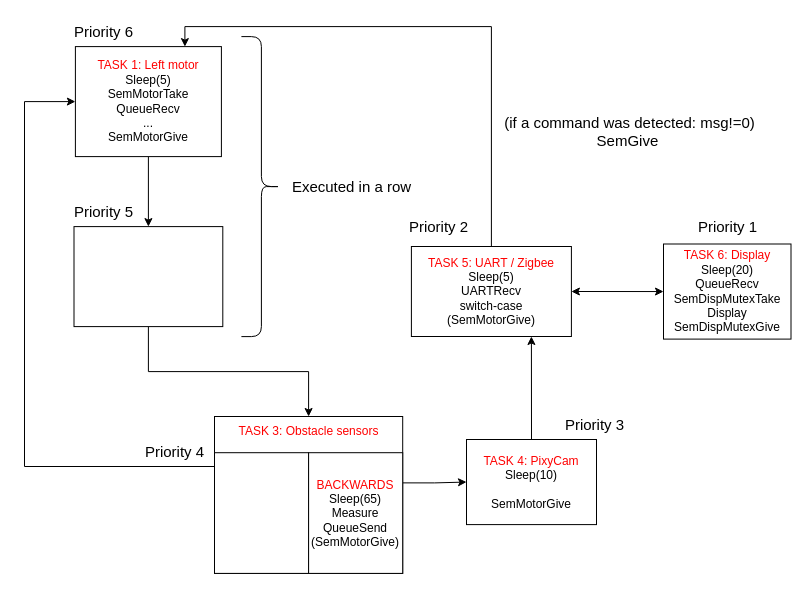
This 809x592 diagram has some shape labels left out. The shapes that lost their labels are listed below. From the top down, each one's box as (x1, y1, x2, y2) in pixels, then its label:
(73, 226, 223, 327): TASK 2: Right motor Sleep(5) SemMotorTake QueueRecv ... Sem
(214, 452, 309, 573): FORWARD Sleep(10) Measure QueueSend (SemMotorGive)
